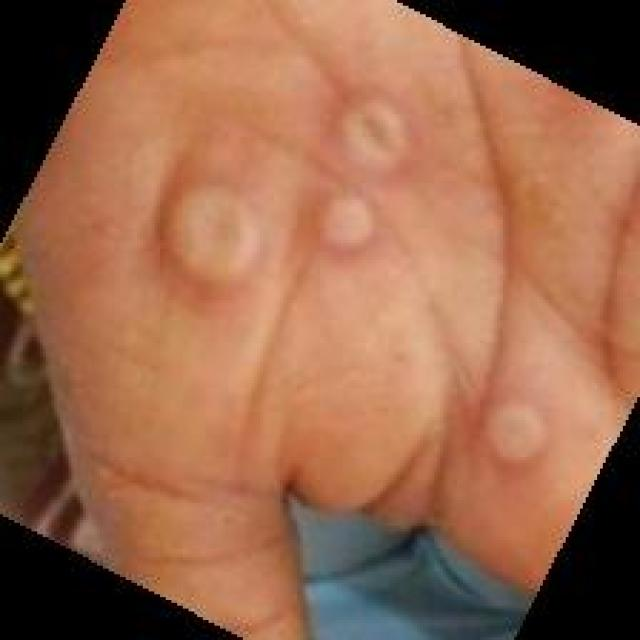monkeypox: (84, 45, 640, 575)
